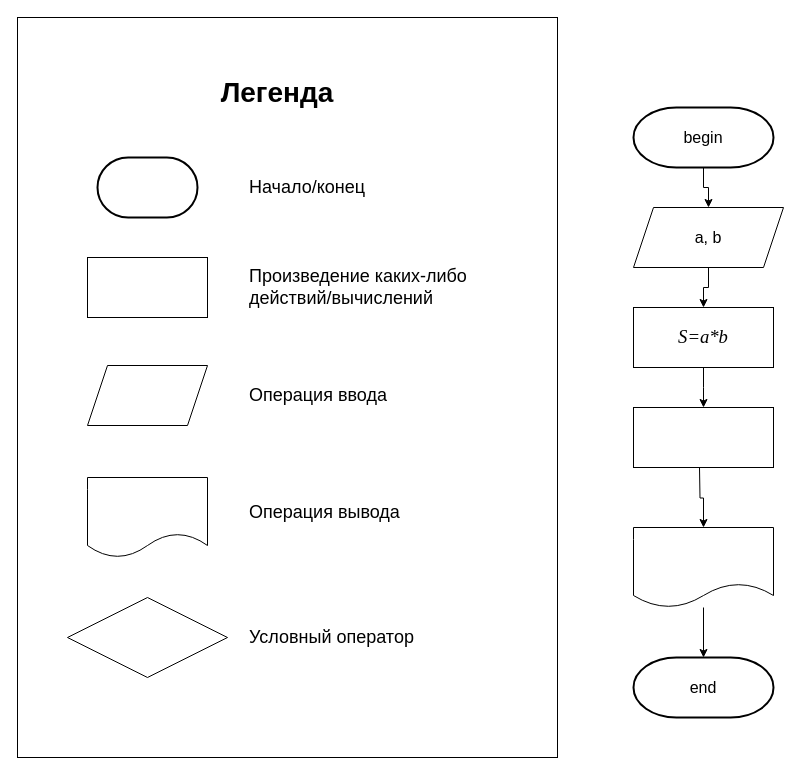
The diagram is 801 pixels wide and 775 high, and some of its shapes have lost their labels. Each missing label, with the centre of its shape:
"P=2*a+b" belongs at [703,437].
"S, P" belongs at [703,567].
